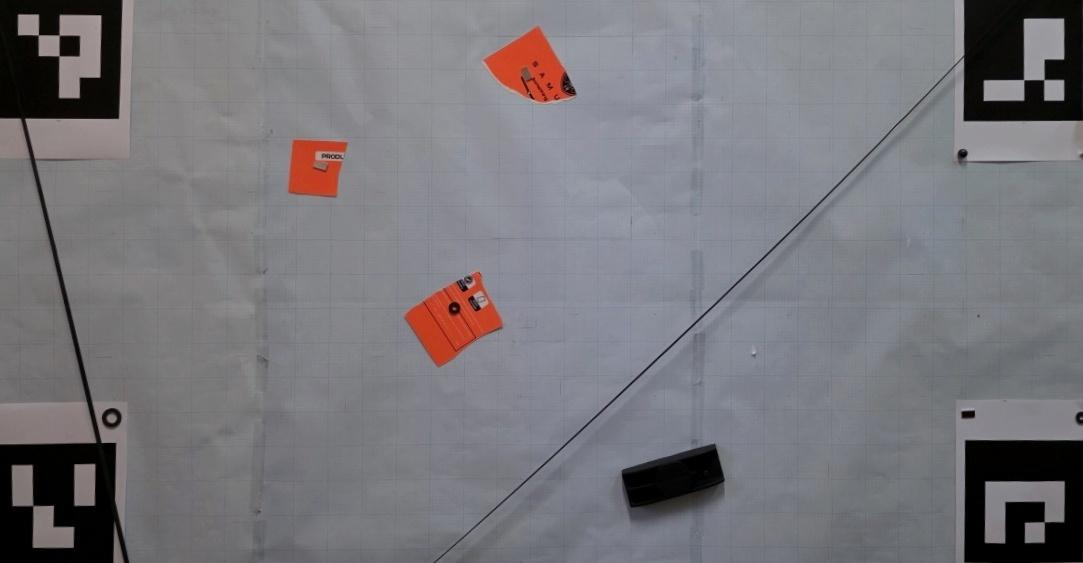obstacle: (405, 270, 502, 366), (481, 26, 576, 104), (622, 444, 724, 511), (287, 141, 348, 197)
